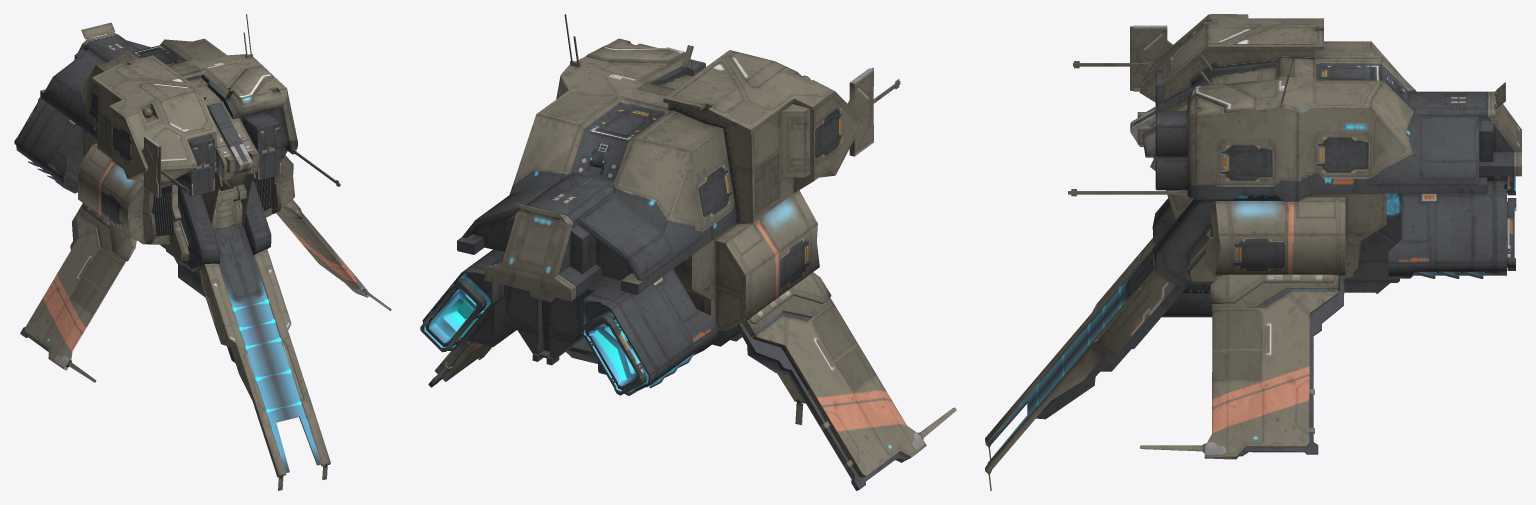
Rendered from 37458_lite.glb.
3 renders of one model, left to right at view 1: azimuth 30°, elevation 25°; view 2: azimuth 150°, elevation 25°; view 3: azimuth 270°, elevation 25°, orthographic. The views are drawn at different scales.
Visible parts, largest first — view 1: ship; view 2: ship; view 3: ship.
Part boxes in pixels (x1,y1,x2,y2): ship: [14, 14, 391, 490]; ship: [420, 14, 956, 490]; ship: [985, 14, 1521, 490].
Size of the model in its own units: 0.653 by 0.7327 by 0.7788.
Materials: 1 (1 with a texture image).
